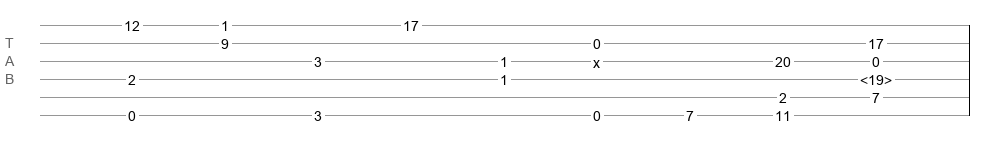0: (128, 108, 136, 118), (593, 36, 601, 46), (593, 108, 601, 118), (872, 54, 880, 64)
1: (221, 18, 229, 28), (500, 54, 508, 64), (500, 72, 508, 82)
11: (775, 108, 791, 118)
12: (124, 18, 140, 28)
17: (403, 18, 419, 28), (868, 36, 884, 46)
2: (128, 72, 136, 82), (779, 90, 787, 100)
20: (775, 54, 791, 64)
3: (314, 54, 322, 64), (314, 108, 322, 118)
7: (686, 108, 694, 118), (872, 90, 880, 100)
9: (221, 36, 229, 46)
harmonic: (860, 72, 892, 82)
x: (593, 55, 600, 63)
